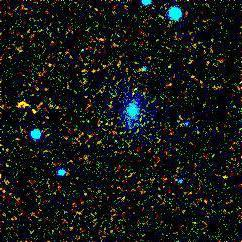star: (8, 88, 38, 118)
